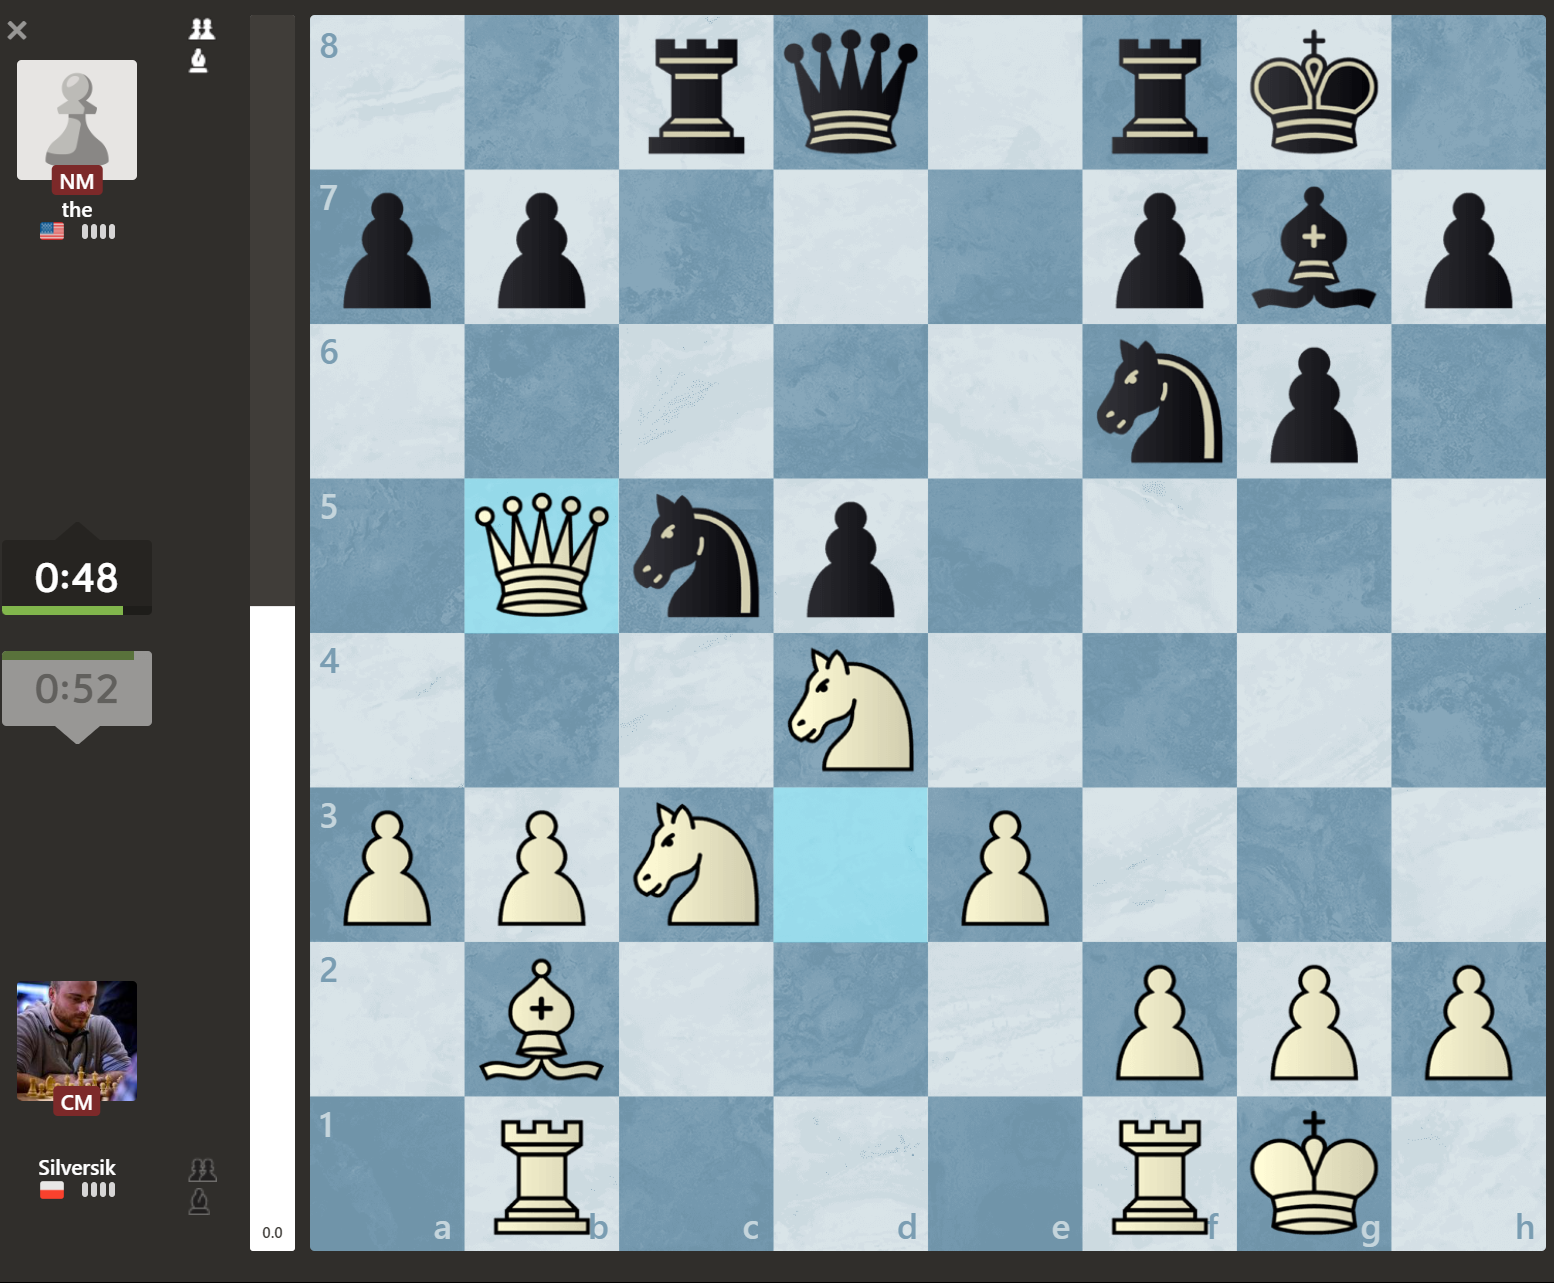beyaz_at: (623, 794, 769, 934), (780, 634, 918, 774)
beyaz_fil: (472, 950, 610, 1086)
beyaz_kale: (1091, 1098, 1231, 1240), (472, 1104, 608, 1246)
beyaz_piyon: (478, 789, 610, 929), (1091, 950, 1229, 1083), (1400, 949, 1536, 1082), (946, 794, 1073, 934), (327, 802, 456, 934), (1256, 954, 1376, 1082)
beyaz_sah: (1246, 1101, 1385, 1246)
beyaz_vezir: (470, 483, 620, 625)
siyah_at: (626, 485, 764, 627), (1093, 330, 1229, 471)
siyah_fil: (1247, 179, 1389, 312)
siyah_kale: (1093, 19, 1231, 163), (629, 25, 762, 156)
siyah_piyon: (1244, 329, 1384, 472), (472, 176, 610, 318), (1400, 173, 1540, 311), (1089, 176, 1227, 312), (318, 178, 450, 314), (789, 485, 916, 622)
siyah_sah: (1246, 18, 1385, 163)
siyah_vezir: (780, 19, 920, 160)
